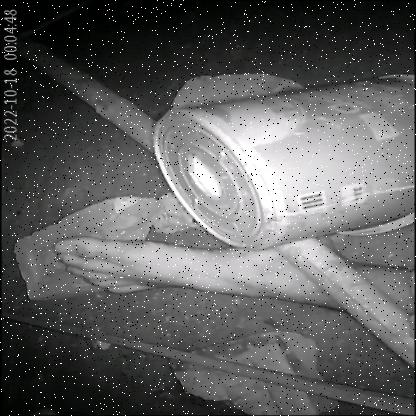leg: (14, 207, 416, 333)
